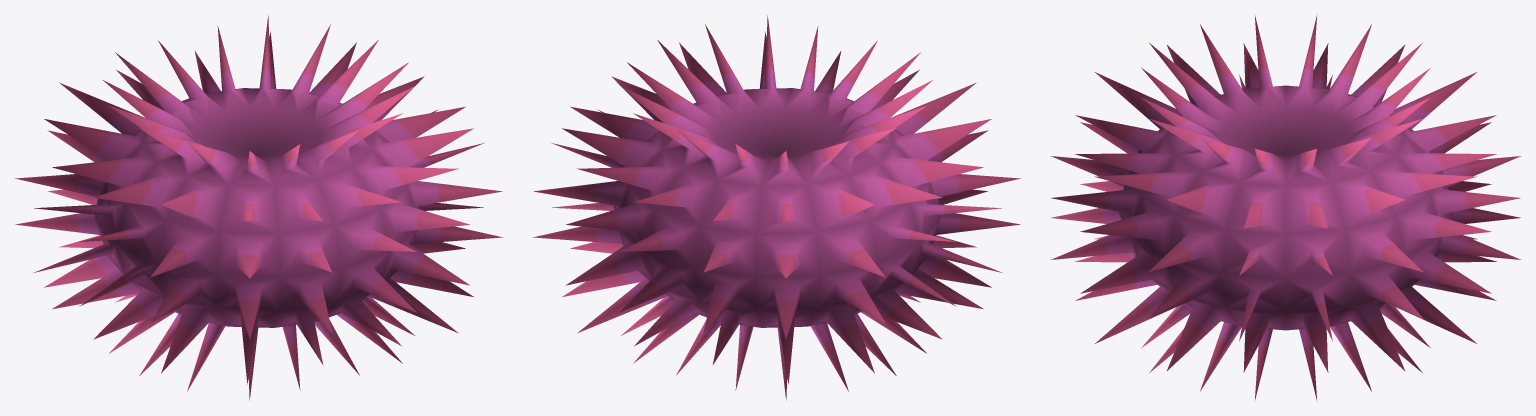
The model's file is urchin-01.fbx.
3 renders of one model, left to right at view 1: azimuth 30°, elevation 25°; view 2: azimuth 150°, elevation 25°; view 3: azimuth 270°, elevation 25°, orthographic.
Parts seen in each view (by area): view 1: Urchin; view 2: Urchin; view 3: Urchin.
Boxes of the visible parts, x1,y1,x2,y2 form: Urchin: (15, 15, 502, 400); Urchin: (533, 15, 1020, 400); Urchin: (1051, 14, 1520, 401).
Bounding box in the file's own units: 851 × 502 × 839.
